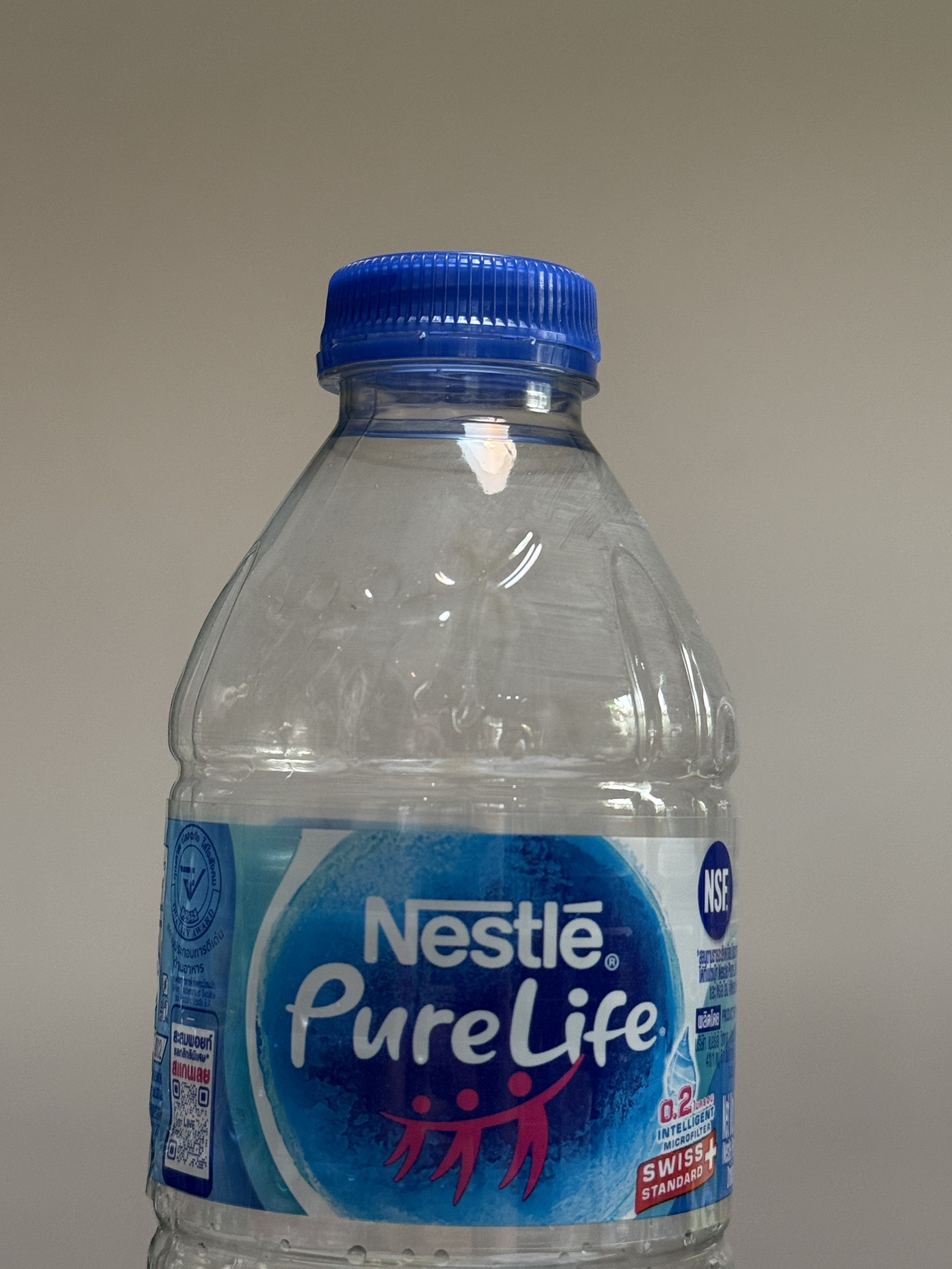closed_cap: (313, 246, 604, 393)
